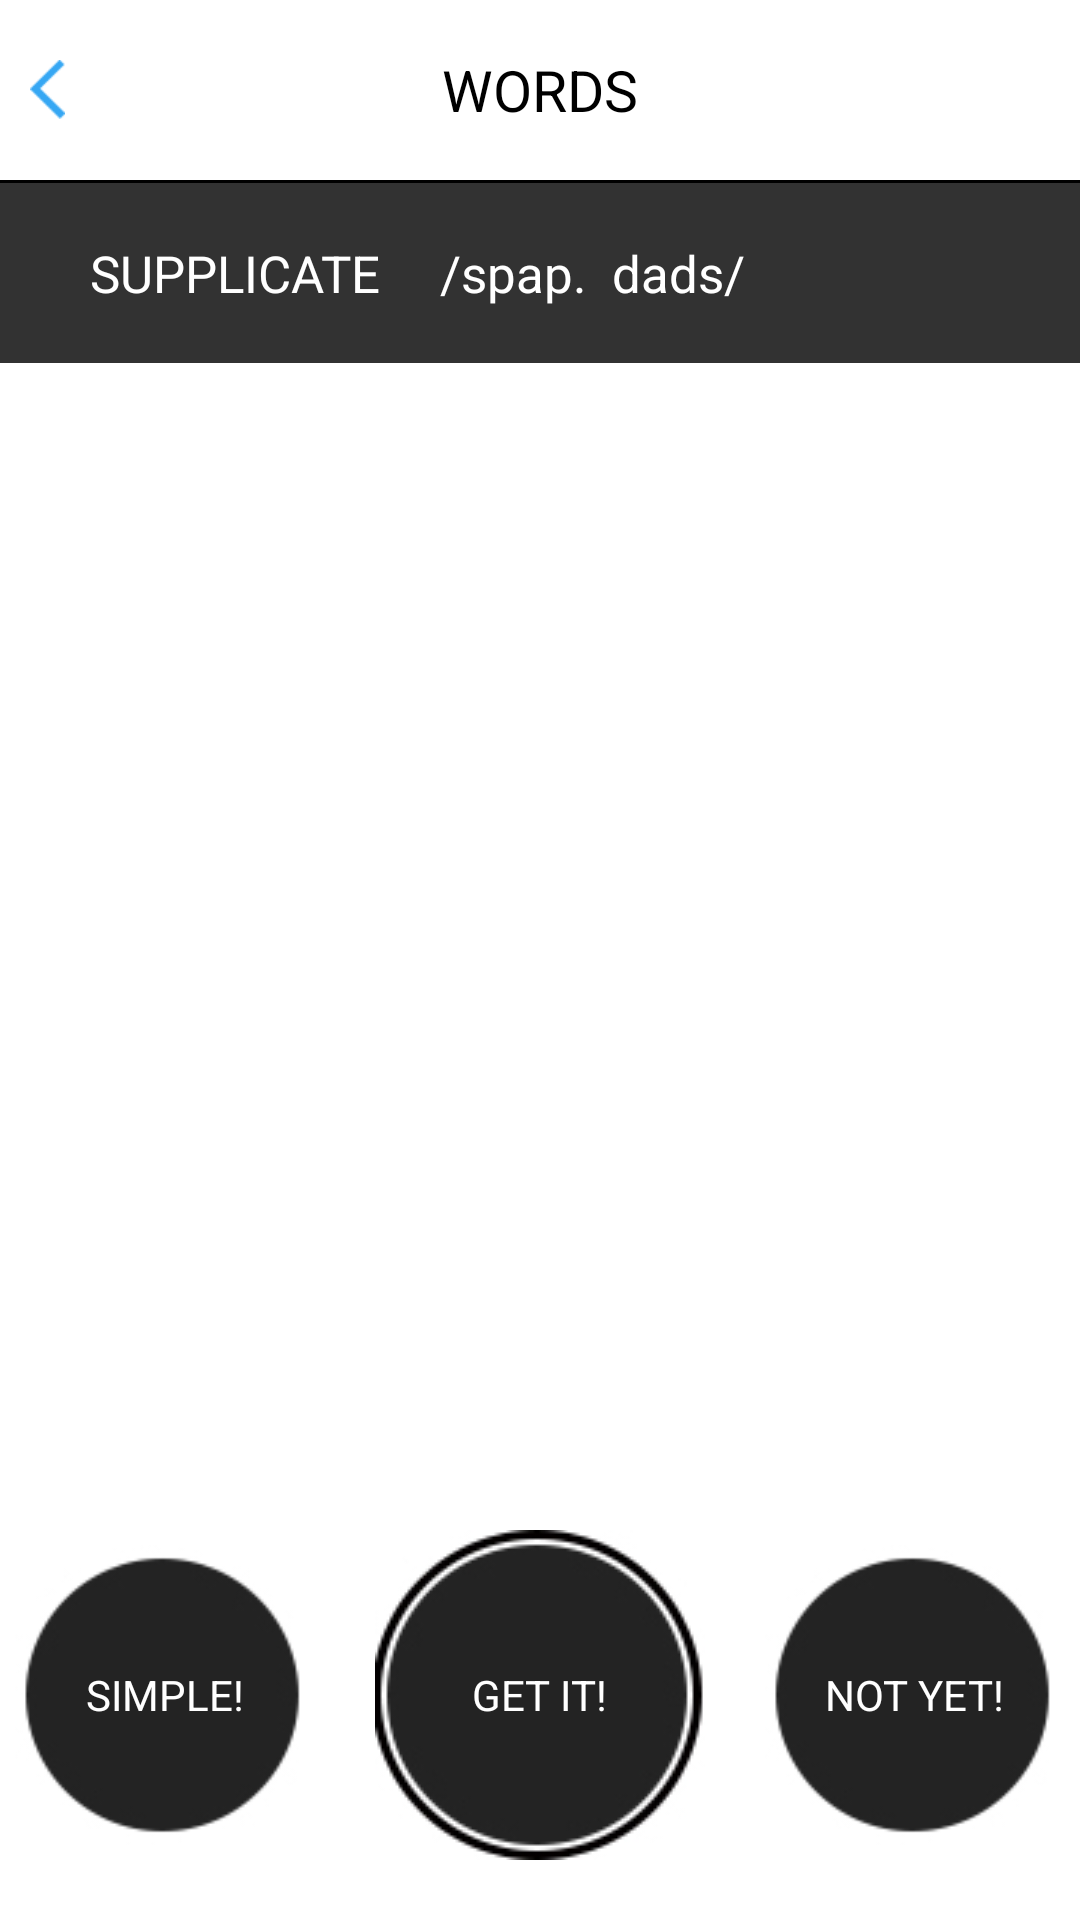

Named icons in this screenshot (1080px×1920px) and their centers, [x,y]:
back: [47,89]
